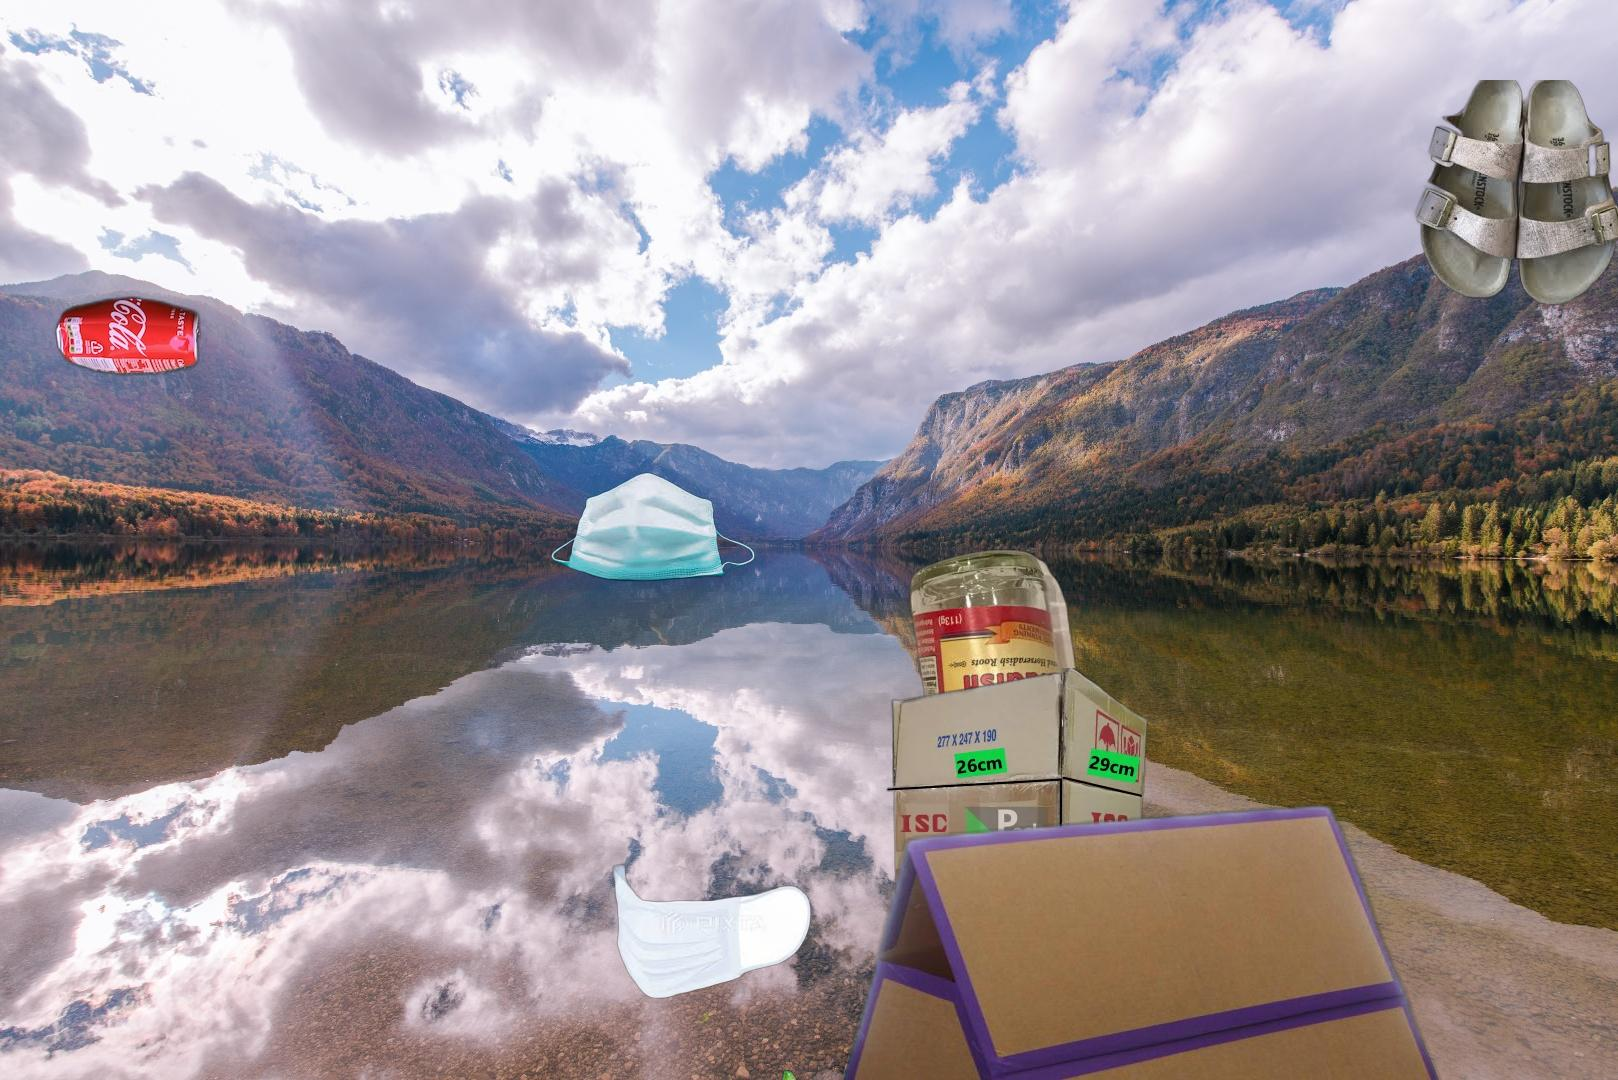glass: (904, 548, 1105, 902)
metal-cans: (51, 290, 551, 771)
plastic-bag: (712, 1069, 851, 1080)
shoes: (1410, 80, 1618, 304)
trash: (611, 862, 814, 1000), (551, 470, 758, 585)
trashbox-cardboard: (811, 796, 1484, 1080), (884, 668, 1151, 1028)
